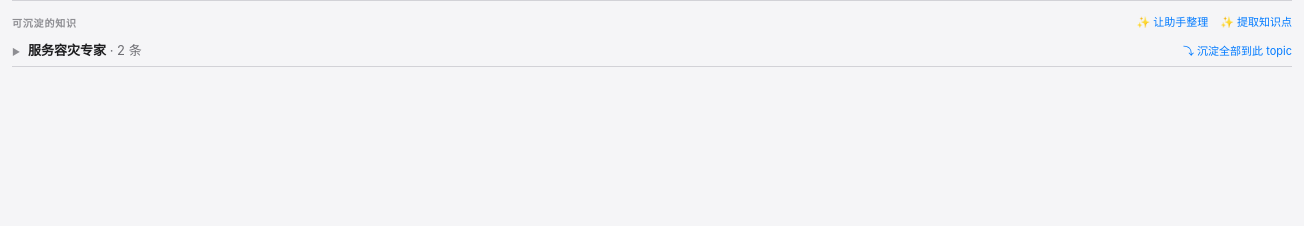
Scenario: KnowledgePointsSection › shows a topic only once even with multiple points under it
Check: the text "服务容灾专家" is shown once, box left=28, top=42, right=106, bottom=58
Check: the text "· 2 条" is shown, box left=106, top=42, right=142, bottom=58
Click the button "▶ 服务容灾专家 · 2 条": point(77, 50) left=12, top=41, right=142, bottom=60
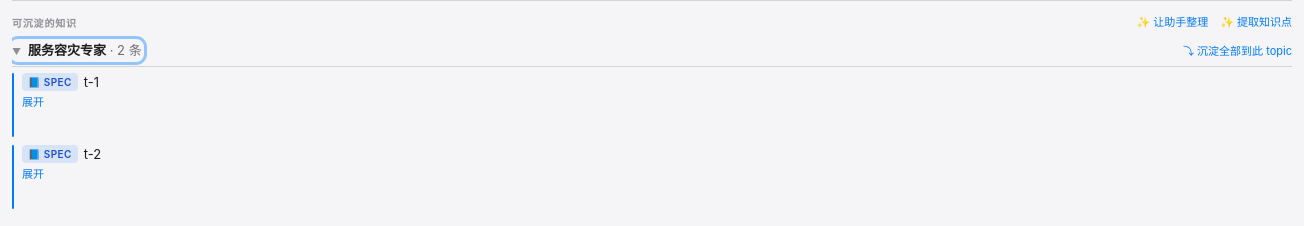
Check: the text "t-1" is shown, box left=84, top=74, right=99, bottom=90
Check: the text "t-2" is shown, box left=84, top=146, right=101, bottom=162
